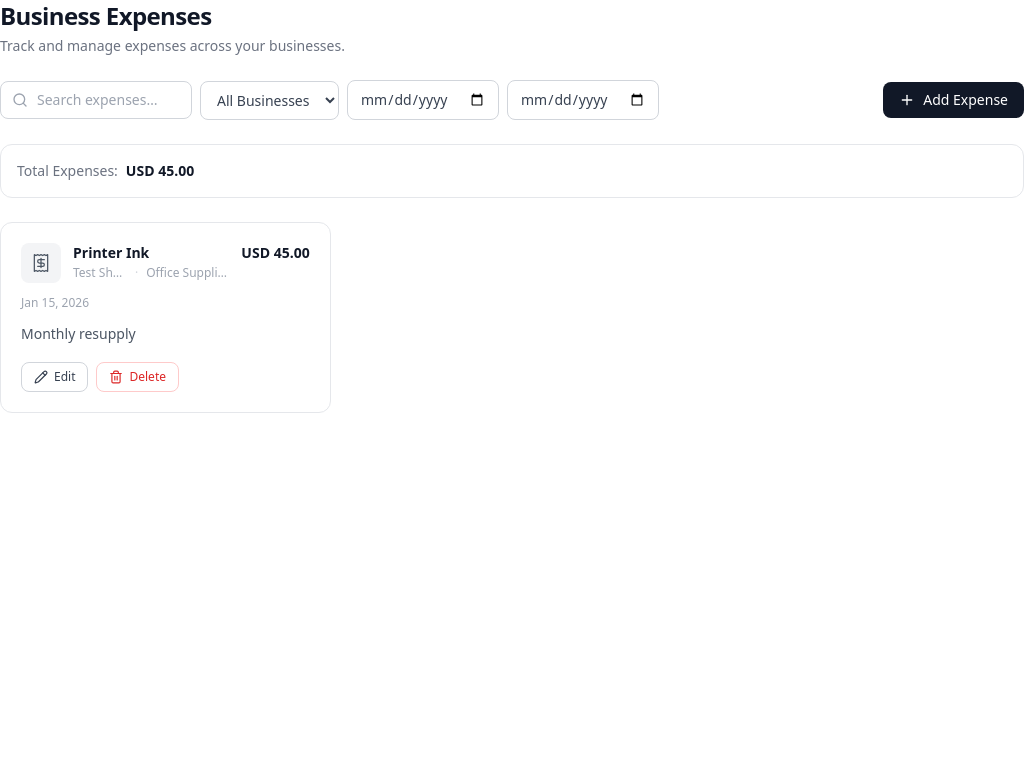
BusinessExpensesPage — delete › shows error on delete failure
The image size is (1024, 768).
Check: the heading "Printer Ink" is shown, box x1=73 y1=243 x2=149 y2=262
Step 1. Click the button with aria-label "Delete Printer Ink" → [138, 377], box x1=96 y1=362 x2=179 y2=392
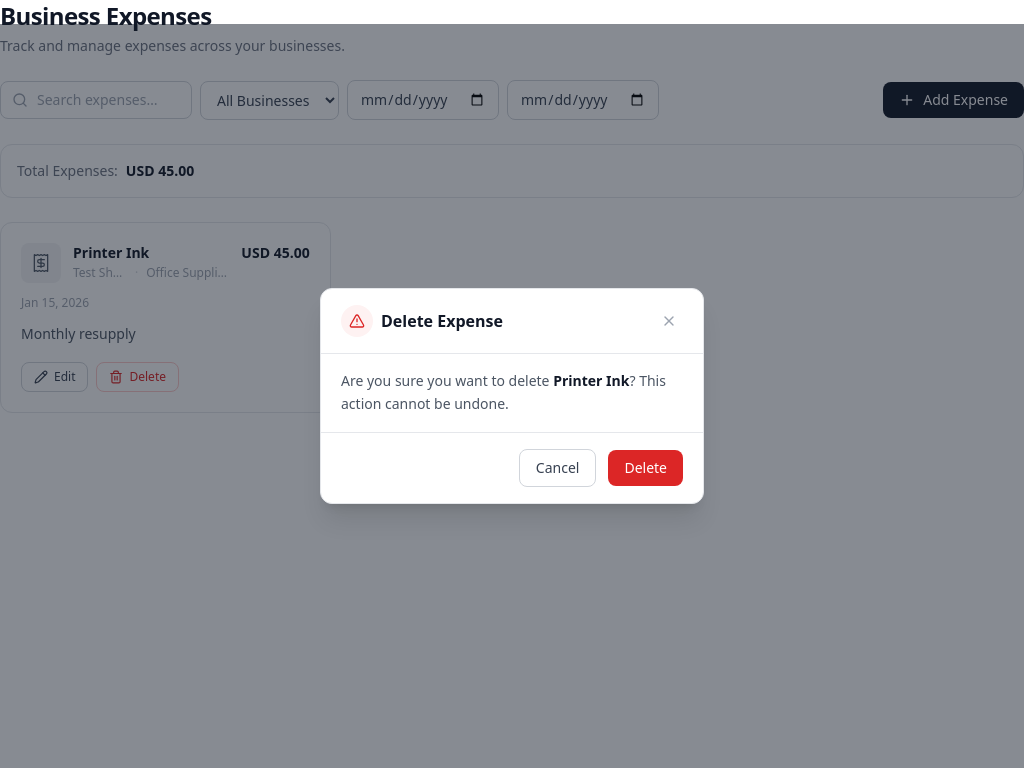
Check: the dialog is shown, box x1=320 y1=288 x2=704 y2=504
Step 2. Click the button "Delete" → [646, 468], box x1=608 y1=450 x2=683 y2=486
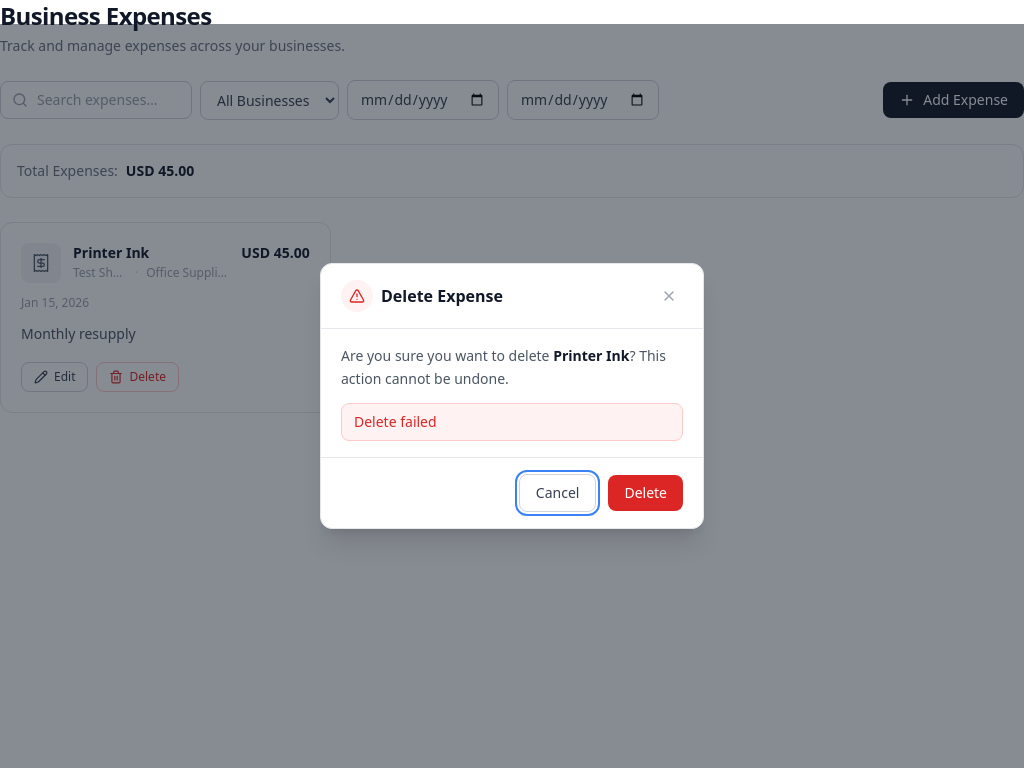
Check: the text "Delete failed" is shown, box x1=341 y1=403 x2=683 y2=441
